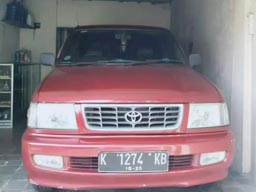plat: (98, 152, 169, 165)
